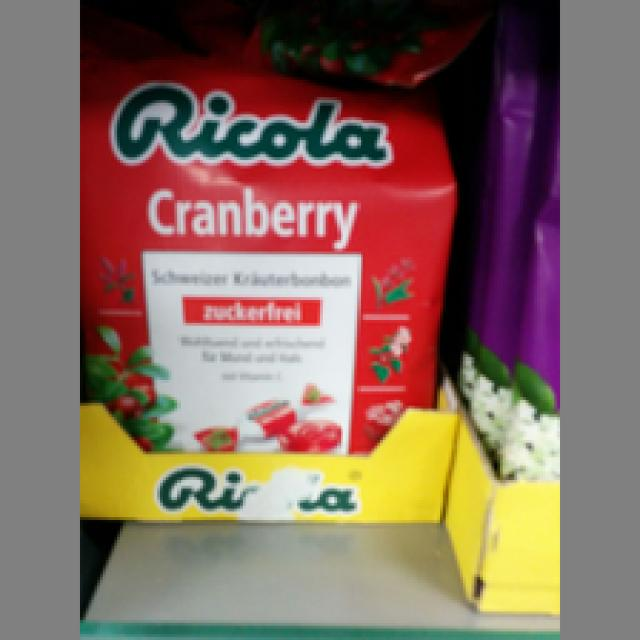groceries: (77, 66, 454, 463)
